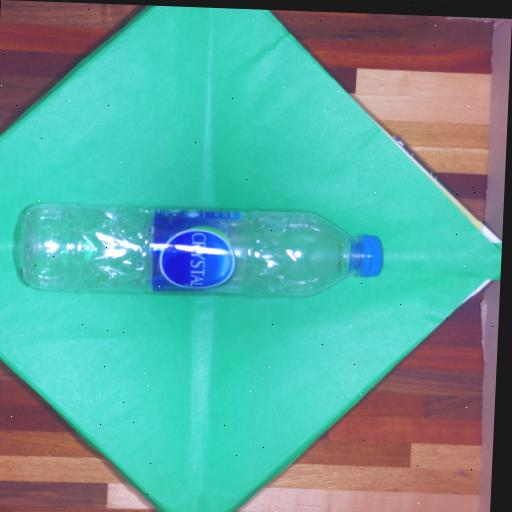bottle: (3, 179, 403, 321)
